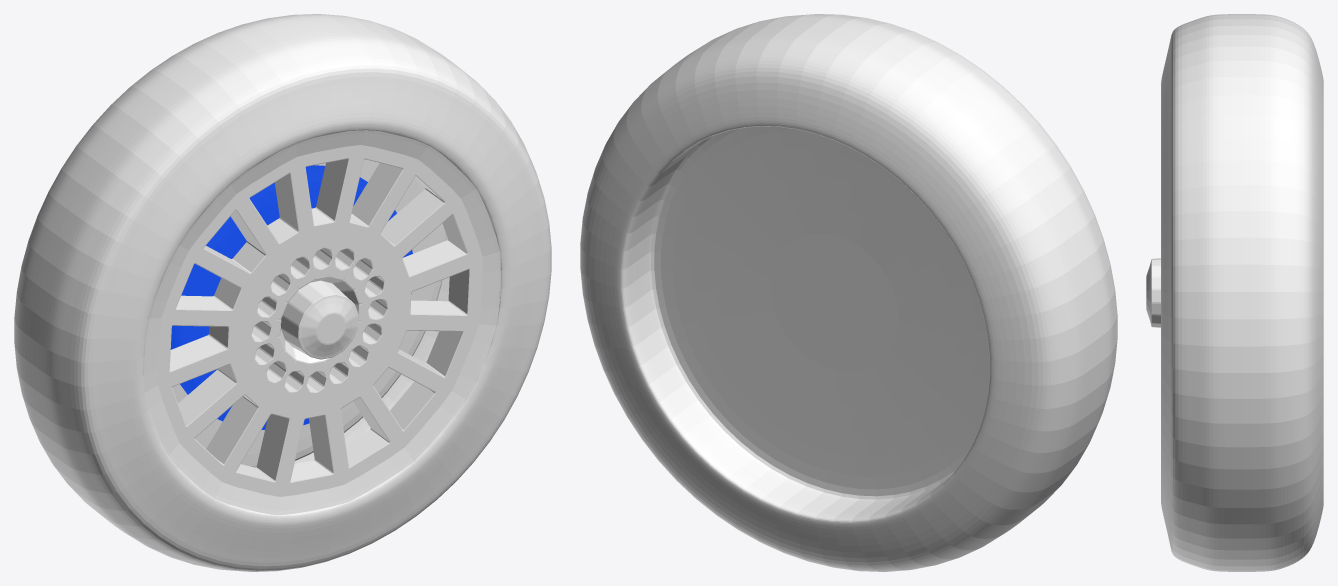
The model's file is Roda.gltf.
3 views of the same model, side by side, from view 1: azimuth 30°, elevation 25°; view 2: azimuth 150°, elevation 25°; view 3: azimuth 270°, elevation 25° (orthographic). The views are drawn at different scales.
Parts seen in each view (by area): view 1: ban_2; view 2: ban_2; view 3: ban_2.
Boxes of the visible parts, left/top/right/bottom form: ban_2: left=14, top=14, right=551, bottom=571; ban_2: left=580, top=14, right=1117, bottom=571; ban_2: left=1146, top=14, right=1323, bottom=571.
Bounding box in the file's own units: 3.75 × 3.75 × 1.19.
